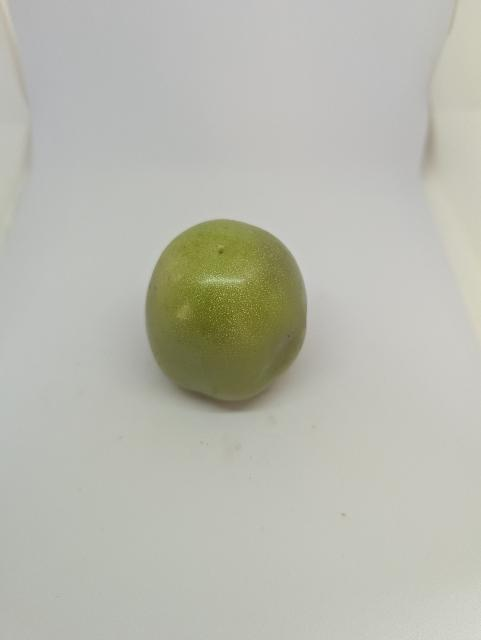green: (129, 213, 320, 421)
